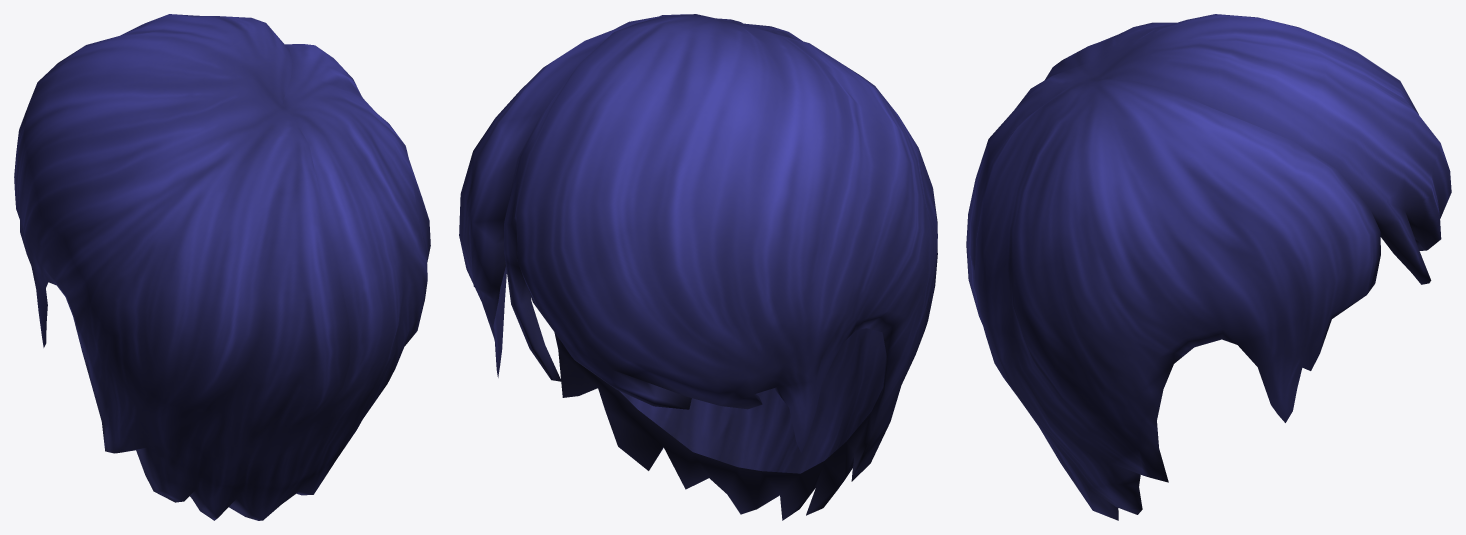
The model's file is Hair_Male_004_textured_blue.glb.
The picture shows the model from 3 angles, left to right: view 1: azimuth 30°, elevation 25°; view 2: azimuth 150°, elevation 25°; view 3: azimuth 270°, elevation 25°; orthographic projection. The views are drawn at different scales.
Parts seen in each view (by area): view 1: Hair_Male_004; view 2: Hair_Male_004; view 3: Hair_Male_004.
Part boxes in pixels (x1,y1,x2,y2): Hair_Male_004: [14, 14, 430, 520]; Hair_Male_004: [459, 14, 937, 520]; Hair_Male_004: [966, 14, 1451, 520].
Size of the model in its own units: 0.189 by 0.2477 by 0.2273.
Materials: 1 (1 with a texture image).
